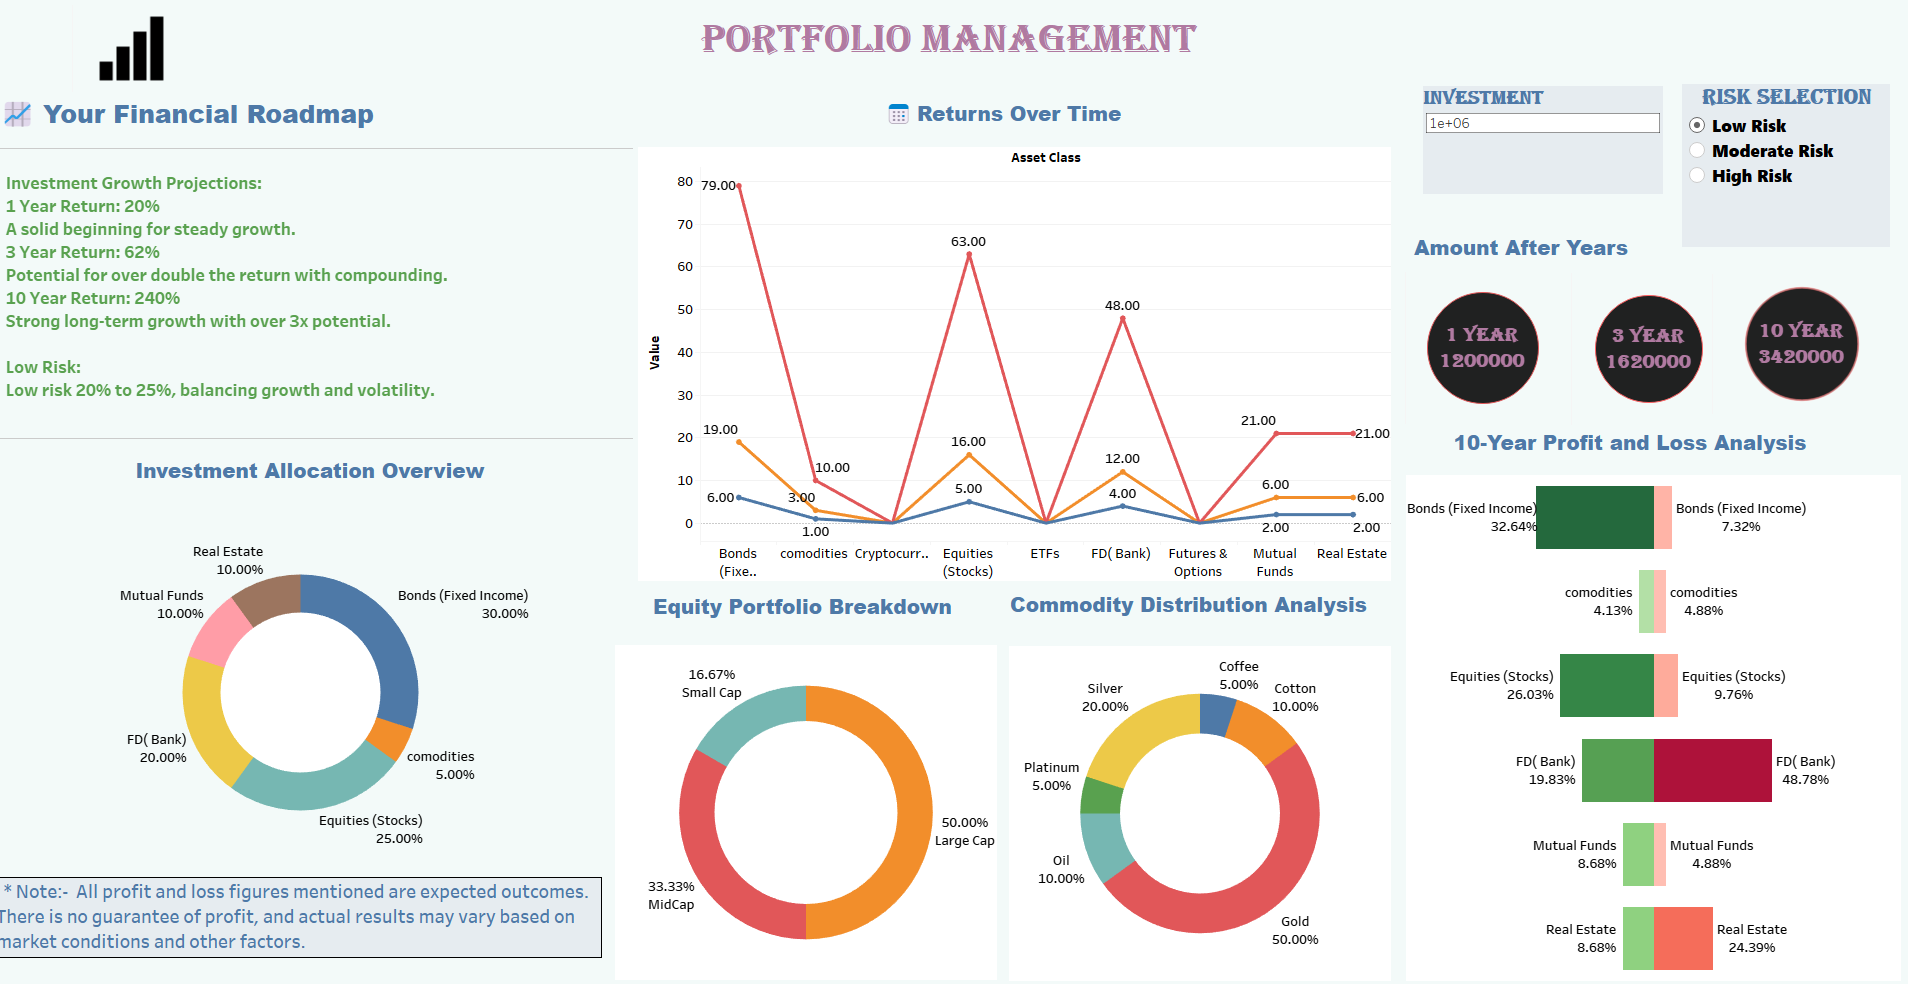

This screenshot's page, from the dashboard's own definition file:
{"tool":"tableau","page":{"name":"Dashboard 1","canvas":[1000,1000],"units":"permille","ordinal":0},"visuals":[{"type":"worksheet","title":"Sheet 36","mark":"Shape","rows":["Calculation_1812135905712029697"],"box":[43.5,7.5,62.8,87.4]},{"type":"title","box":[4.8,10,990.3,81.2]},{"type":"parameter","param":"[Parameters].[Parameter 1]","box":[881.7,86.1,108.6,164.8]},{"type":"parameter","param":"[Parameters].[Parameter 2]","box":[747.1,88.6,124.9,108.6]},{"type":"worksheet","title":"Heading Your Financial Roadmap","mark":"Automatic","box":[3,93.6,332.3,52.4]},{"type":"worksheet","title":"Returns Over years","mark":"Automatic","box":[341,97.4,377.8,47.4]},{"type":"worksheet","title":"Return For Low","mark":"Line","cols":["Asset Class"],"box":[338,149.8,392.3,436.9]},{"type":"worksheet","title":"Return For Moderate","mark":"Line","cols":["Asset Class"],"box":[338,149.8,392.3,436.9]},{"type":"worksheet","title":"Return For High","mark":"Line","cols":["Asset Class"],"box":[338,149.8,392.3,436.9]},{"type":"worksheet","title":"heading Summary","mark":"Automatic","rows":["Calculation_882705533022289921"],"box":[4.8,151.1,330.5,293.4]},{"type":"worksheet","title":"Heading Summary","mark":"Automatic","rows":["Calculation_882705533028532226"],"box":[4.8,151.1,330.5,293.4]},{"type":"worksheet","title":"High Risk Summary","mark":"Automatic","rows":["Calculation_882705533028896771"],"box":[4.8,152.3,330.5,292.1]},{"type":"worksheet","title":"Heading Amount After Years","mark":"Automatic","box":[739.9,232.2,137.6,44.9]},{"type":"worksheet","title":"1 Year Low Amount","mark":"Circle","rows":["Calculation_1812135905712029697"],"box":[737.5,275.9,81.5,153.6]},{"type":"worksheet","title":"1 Year Moderate Amount","mark":"Circle","rows":["Calculation_1812135905712029697"],"box":[737.5,275.9,81.5,153.6]},{"type":"worksheet","title":"1 Year High Amount","mark":"Circle","rows":["Calculation_1812135905712029697"],"box":[737.5,275.9,81.5,153.6]},{"type":"worksheet","title":"3 Years Low Amount","mark":"Circle","rows":["Calculation_1812135905712029697"],"box":[823.8,277.2,81.5,153.6]},{"type":"worksheet","title":"3 Year Moderate Amount","mark":"Circle","rows":["Calculation_1812135905712029697"],"box":[823.8,277.2,81.5,153.6]},{"type":"worksheet","title":"3 year High Amount","mark":"Circle","rows":["Calculation_1812135905712029697"],"box":[823.8,277.2,81.5,153.6]},{"type":"worksheet","title":"10 Year Low Amount","mark":"Circle","rows":["Calculation_1812135905712029697"],"box":[897.4,278.4,93.5,141.1]},{"type":"worksheet","title":"10 Year Moderate Amount","mark":"Circle","rows":["Calculation_1812135905712029697"],"box":[897.4,278.4,93.5,141.1]},{"type":"worksheet","title":"10 years High Amount","mark":"Circle","rows":["Calculation_1812135905712029697"],"box":[897.4,278.4,93.5,141.1]},{"type":"worksheet","title":"Heading 10 Years Profit and Loss Analysis","mark":"Automatic","box":[709.1,429.5,291.5,44.9]},{"type":"worksheet","title":"Heading Investment Allocation Overview","mark":"Automatic","box":[3,456.9,328.2,51.2]},{"type":"worksheet","title":"Low Risk Vs profit","mark":"Automatic","rows":["Asset Class"],"cols":["Low(Last 10-Year Return (%))","Low Risk (Potential Loss (%) Of  Total Capital)"],"box":[738.1,480.7,257.7,509.4]},{"type":"worksheet","title":"Moderate Risk Vs Profit","mark":"Automatic","rows":["Asset Class"],"cols":["Moderate(Last 10-Year Return (%))","Moderate Risk (Potential Loss (%) Of  Total Capital)"],"box":[738.1,480.7,257.7,509.4]},{"type":"worksheet","title":"High Risk Vs Profit","mark":"Automatic","rows":["Asset Class"],"cols":["High(Last 10-Year Return (%))","High Risk (Potential Loss (%) Of  Total Capital)"],"box":[738.1,480.7,257.7,509.4]},{"type":"worksheet","title":"High Asset Allocation","mark":"Pie","rows":["Calculation_1812135905712029697","Calculation_1812135905712029697"],"box":[5.4,518.1,314.5,359.6]},{"type":"worksheet","title":"Low Asset Allocation","mark":"Pie","rows":["Calculation_1812135905712029697","Calculation_1812135905712029697"],"box":[5.4,520.6,314.3,357.1]},{"type":"worksheet","title":"Moderate Asset Allocation","mark":"Pie","rows":["Calculation_1812135905712029697","Calculation_1812135905712029697"],"box":[5.4,520.6,314.3,357.1]},{"type":"worksheet","title":"Heading Commodity Distribution Analysis","mark":"Automatic","box":[518.4,591.8,213,49.9]},{"type":"worksheet","title":"Heading Equity Portfolio BreakDown","mark":"Automatic","box":[321.1,594.3,205.8,47.4]},{"type":"worksheet","title":"Equities Distrubution For Low","mark":"Pie","rows":["Calculation_1812135905712029697","Calculation_1812135905712029697"],"box":[325.9,651.7,199.2,337.1]},{"type":"worksheet","title":"Equities Distrubution For Moderate","mark":"Pie","rows":["Calculation_1812135905712029697","Calculation_1812135905712029697"],"box":[325.9,651.7,199.2,337.1]},{"type":"worksheet","title":"Equities Distrubution For High","mark":"Pie","rows":["Calculation_1812135905712029697","Calculation_1812135905712029697"],"box":[325.9,651.7,199.2,337.1]},{"type":"worksheet","title":"Commodities Distrubution For Low Risk","mark":"Pie","rows":["Calculation_1812135905712029697","Calculation_1812135905712029697"],"box":[531.1,652.9,199.2,337.1]},{"type":"worksheet","title":"Commodities Distrubution For Moderate Risk","mark":"Pie","rows":["Calculation_1812135905712029697","Calculation_1812135905712029697"],"box":[531.1,652.9,199.2,337.1]},{"type":"worksheet","title":"Commodities Distrubution For High Risk","mark":"Pie","rows":["Calculation_1812135905712029697","Calculation_1812135905712029697"],"box":[531.1,652.9,199.2,337.1]},{"type":"worksheet","title":"Heading Note","mark":"Automatic","box":[3,885.1,316.2,98.6]}]}

Visuals, with their boxes on the dashboard's canvas, which has no fixed pixel size, in thousandths of its width and height (x1, y1, x2, y2). These are canvas units, not pixel positions in the 1908x984 screenshot, which may show the page scaled, cropped or inside an application window:
"Sheet 36" worksheet (Shape marks): locate(44, 8, 106, 95)
title: locate(5, 10, 995, 91)
parameter: locate(882, 86, 990, 251)
parameter: locate(747, 89, 872, 197)
"Heading Your Financial Roadmap" worksheet: locate(3, 94, 335, 146)
"Returns Over years" worksheet: locate(341, 97, 719, 145)
"Return For Low" worksheet (Line marks): locate(338, 150, 730, 587)
"Return For Moderate" worksheet (Line marks): locate(338, 150, 730, 587)
"Return For High" worksheet (Line marks): locate(338, 150, 730, 587)
"heading Summary" worksheet: locate(5, 151, 335, 444)
"Heading Summary" worksheet: locate(5, 151, 335, 444)
"High Risk Summary" worksheet: locate(5, 152, 335, 444)
"Heading Amount After Years" worksheet: locate(740, 232, 878, 277)
"1 Year Low Amount" worksheet (Circle marks): locate(738, 276, 819, 430)
"1 Year Moderate Amount" worksheet (Circle marks): locate(738, 276, 819, 430)
"1 Year High Amount" worksheet (Circle marks): locate(738, 276, 819, 430)
"3 Years Low Amount" worksheet (Circle marks): locate(824, 277, 905, 431)
"3 Year Moderate Amount" worksheet (Circle marks): locate(824, 277, 905, 431)
"3 year High Amount" worksheet (Circle marks): locate(824, 277, 905, 431)
"10 Year Low Amount" worksheet (Circle marks): locate(897, 278, 991, 420)
"10 Year Moderate Amount" worksheet (Circle marks): locate(897, 278, 991, 420)
"10 years High Amount" worksheet (Circle marks): locate(897, 278, 991, 420)
"Heading 10 Years Profit and Loss Analysis" worksheet: locate(709, 430, 1001, 474)
"Heading Investment Allocation Overview" worksheet: locate(3, 457, 331, 508)
"Low Risk Vs profit" worksheet: locate(738, 481, 996, 990)
"Moderate Risk Vs Profit" worksheet: locate(738, 481, 996, 990)
"High Risk Vs Profit" worksheet: locate(738, 481, 996, 990)
"High Asset Allocation" worksheet (Pie marks): locate(5, 518, 320, 878)
"Low Asset Allocation" worksheet (Pie marks): locate(5, 521, 320, 878)
"Moderate Asset Allocation" worksheet (Pie marks): locate(5, 521, 320, 878)
"Heading Commodity Distribution Analysis" worksheet: locate(518, 592, 731, 642)
"Heading Equity Portfolio BreakDown" worksheet: locate(321, 594, 527, 642)
"Equities Distrubution For Low" worksheet (Pie marks): locate(326, 652, 525, 989)
"Equities Distrubution For Moderate" worksheet (Pie marks): locate(326, 652, 525, 989)
"Equities Distrubution For High" worksheet (Pie marks): locate(326, 652, 525, 989)
"Commodities Distrubution For Low Risk" worksheet (Pie marks): locate(531, 653, 730, 990)
"Commodities Distrubution For Moderate Risk" worksheet (Pie marks): locate(531, 653, 730, 990)
"Commodities Distrubution For High Risk" worksheet (Pie marks): locate(531, 653, 730, 990)
"Heading Note" worksheet: locate(3, 885, 319, 984)
